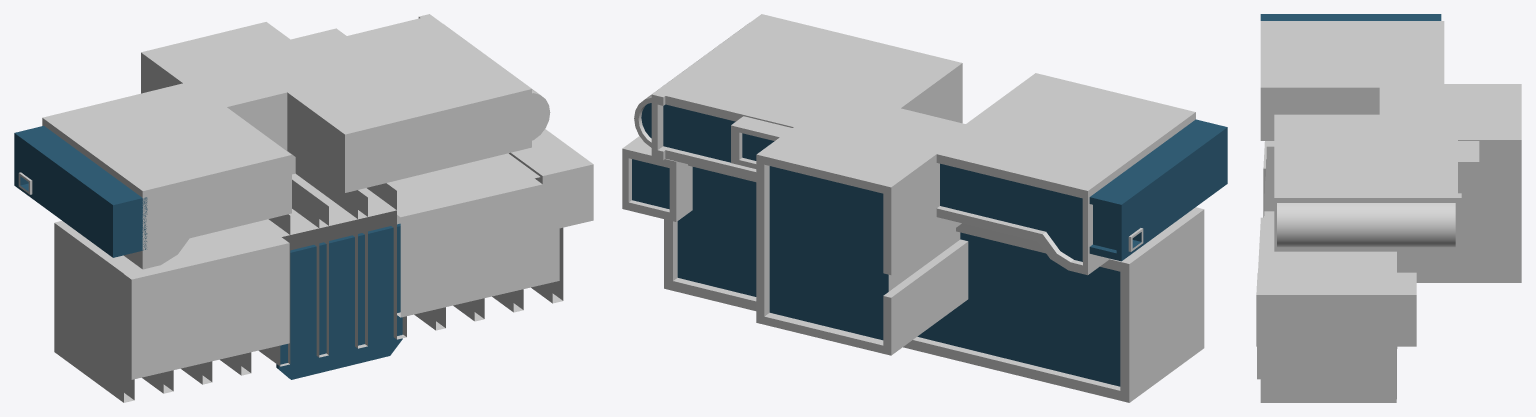
The model's file is SM_Sunhun.FBX.
The picture shows the model from 3 angles, left to right: view 1: azimuth 30°, elevation 25°; view 2: azimuth 150°, elevation 25°; view 3: azimuth 270°, elevation 25°; orthographic projection. The views are drawn at different scales.
Visible parts, largest first — view 1: Box019; view 2: Box019; view 3: Box019.
Part boxes in pixels (x1,y1,x2,y2): Box019: (14, 14, 593, 402); Box019: (622, 14, 1227, 402); Box019: (1256, 14, 1521, 402).
Bounding box in the file's own units: 119 × 54.75 × 62.45.
